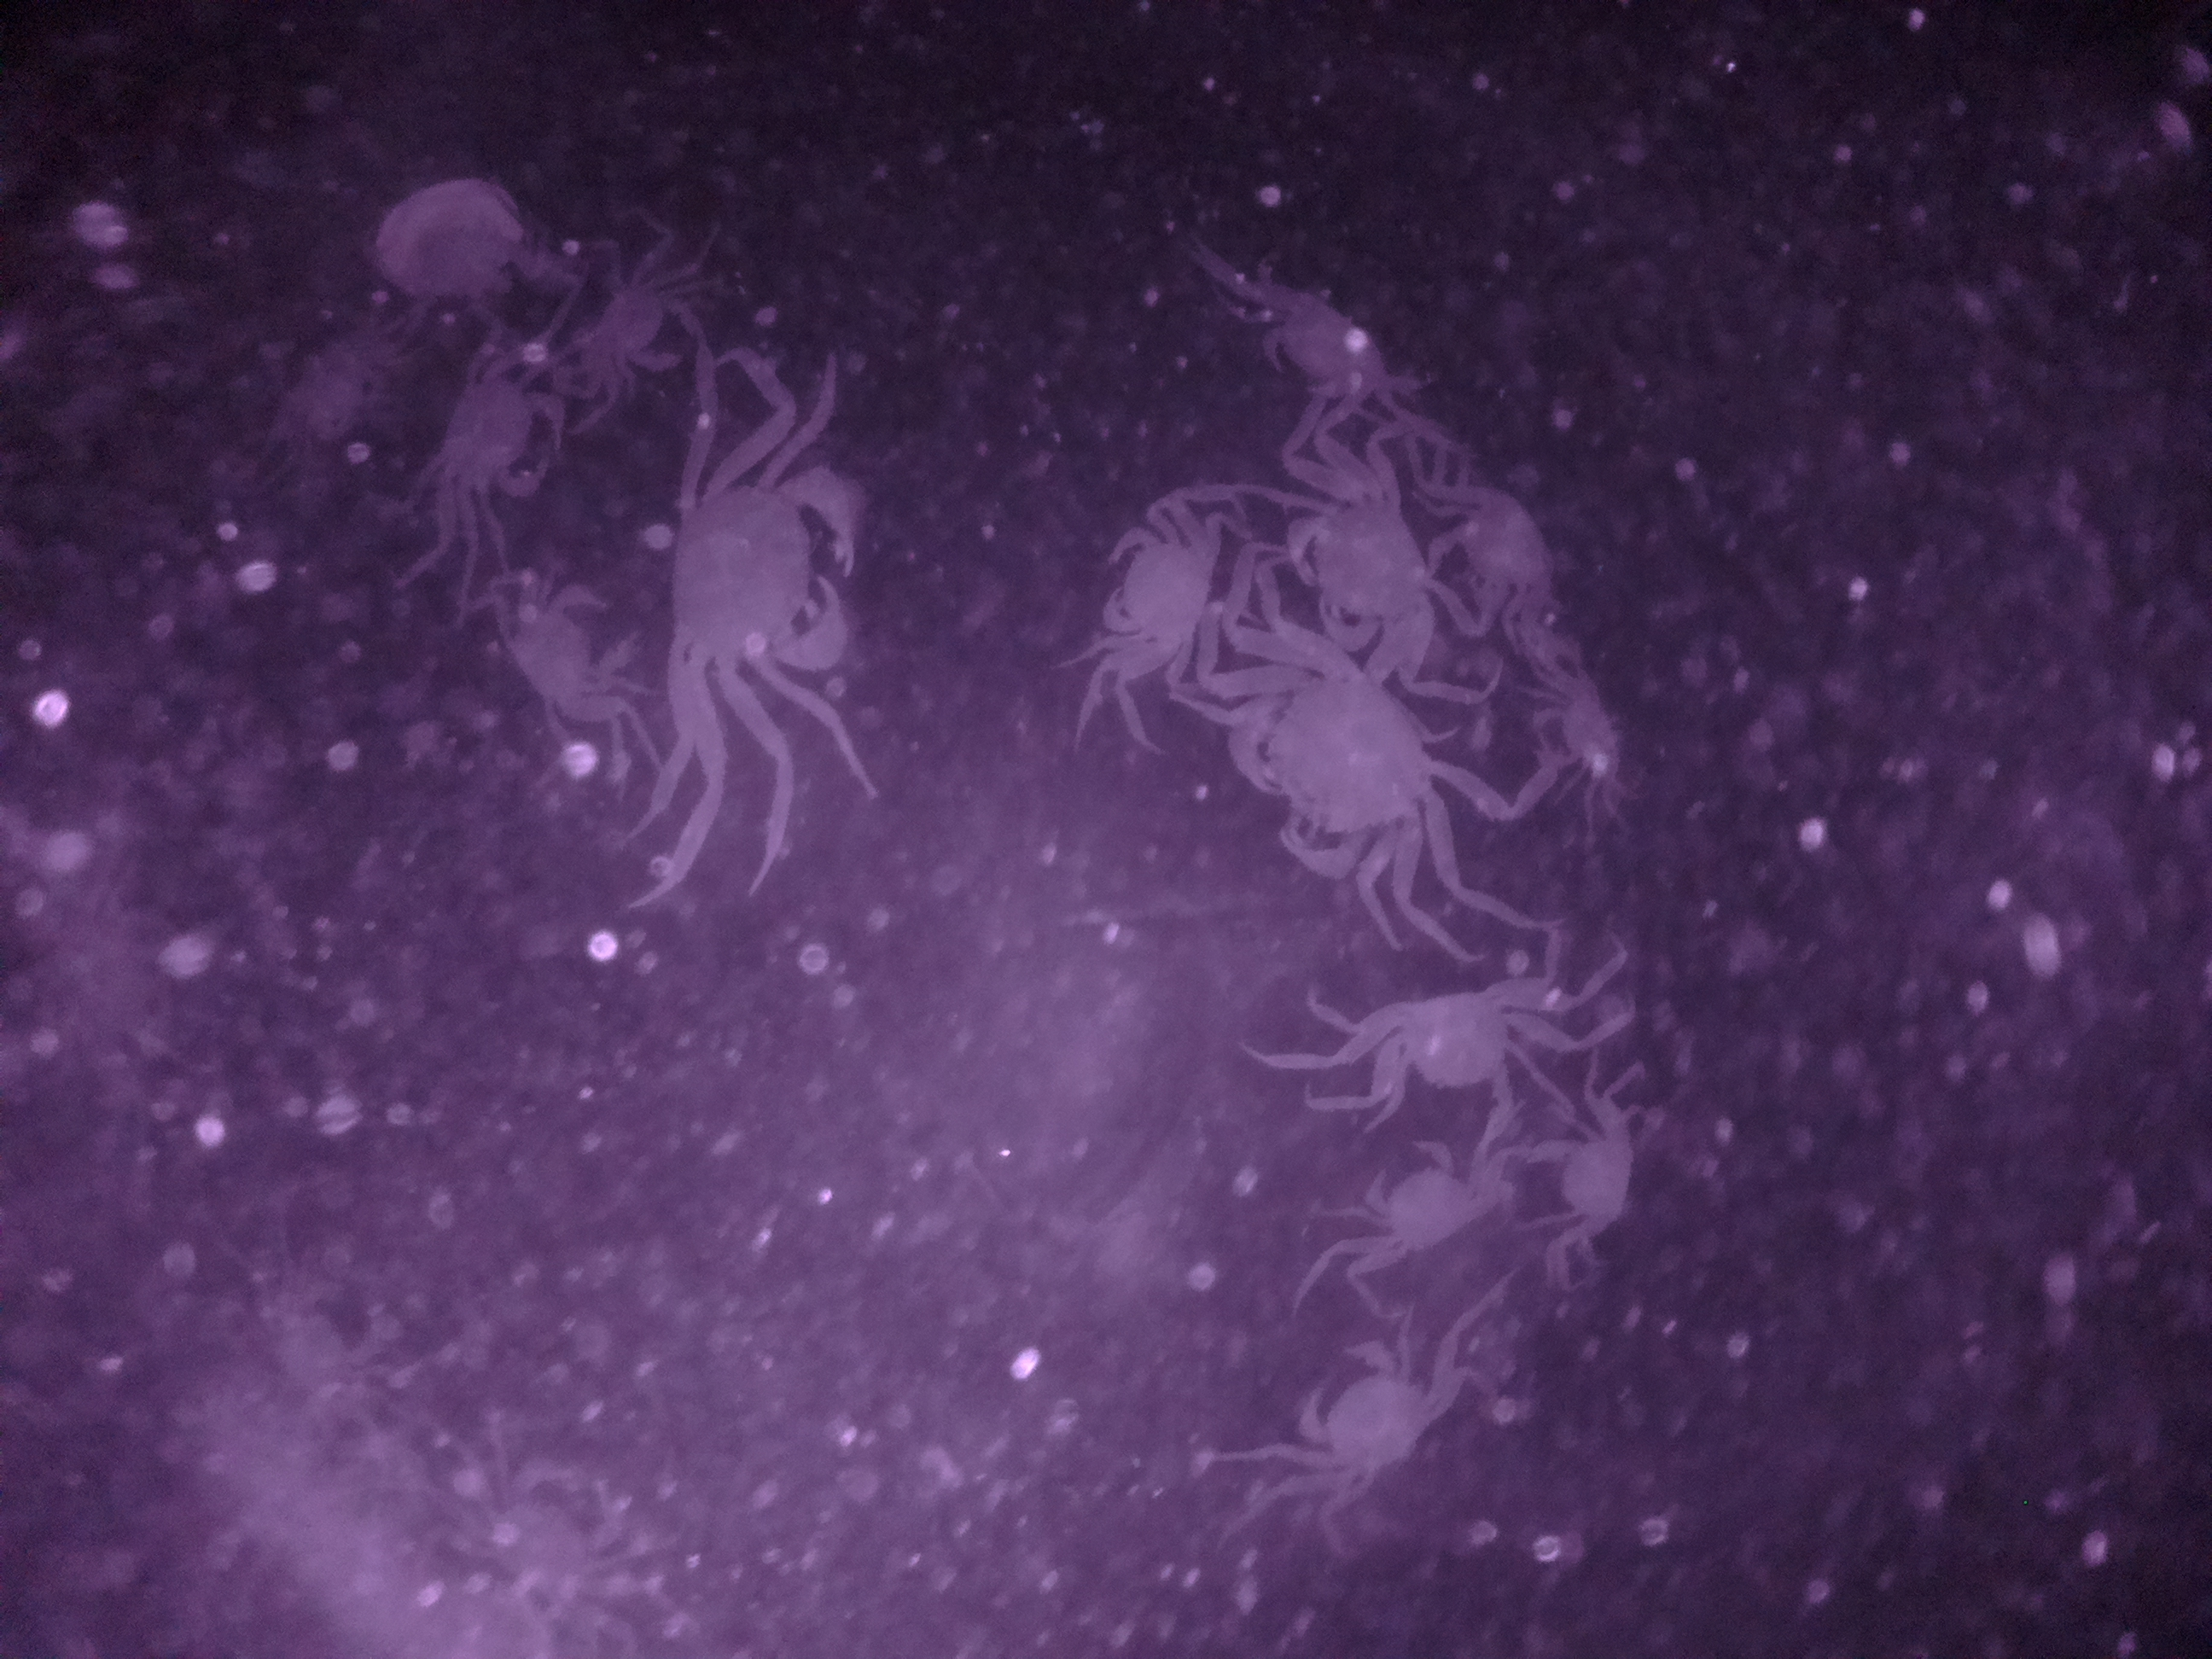Crab: (636, 432, 883, 687), (1266, 457, 1449, 678), (1259, 1314, 1451, 1513), (1343, 967, 1552, 1129), (1076, 491, 1221, 694), (1420, 464, 1588, 627), (430, 331, 557, 537), (1346, 1126, 1489, 1277), (1529, 1100, 1665, 1248), (1517, 652, 1618, 795)
